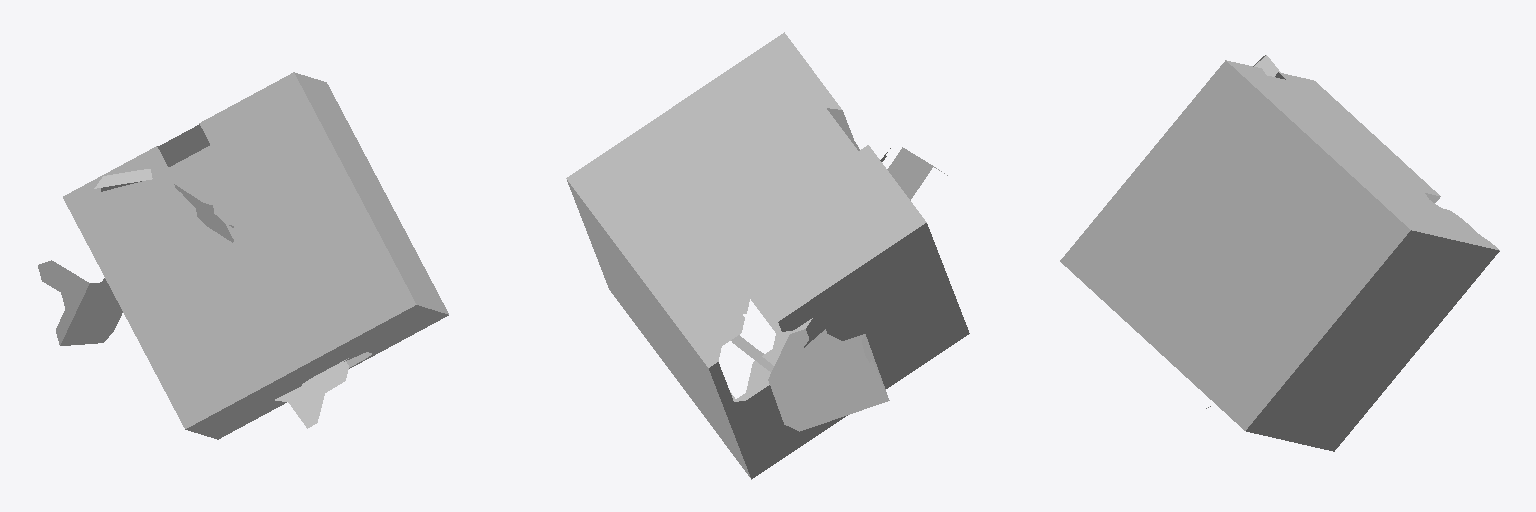
The model's file is explode_000006.obj.
3 views of the same model, side by side, from view 1: azimuth 30°, elevation 25°; view 2: azimuth 150°, elevation 25°; view 3: azimuth 270°, elevation 25° (orthographic).
Visible parts, largest first — view 1: Cube_Cube.001; view 2: Cube_Cube.001; view 3: Cube_Cube.001.
Part boxes in pixels (x1,y1,x2,y2): Cube_Cube.001: (38,72,448,439); Cube_Cube.001: (566,32,969,479); Cube_Cube.001: (1060,55,1499,451).
Bounding box in the file's own units: 3.08 × 3.36 × 3.33.